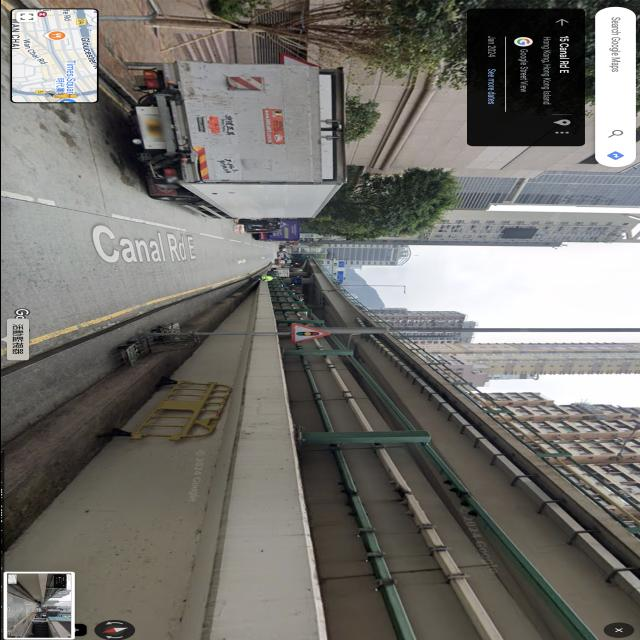Direction-Sign: (336, 271, 343, 282), (290, 279, 301, 285), (337, 261, 344, 267)
Warning-Sign: (291, 323, 329, 344)
